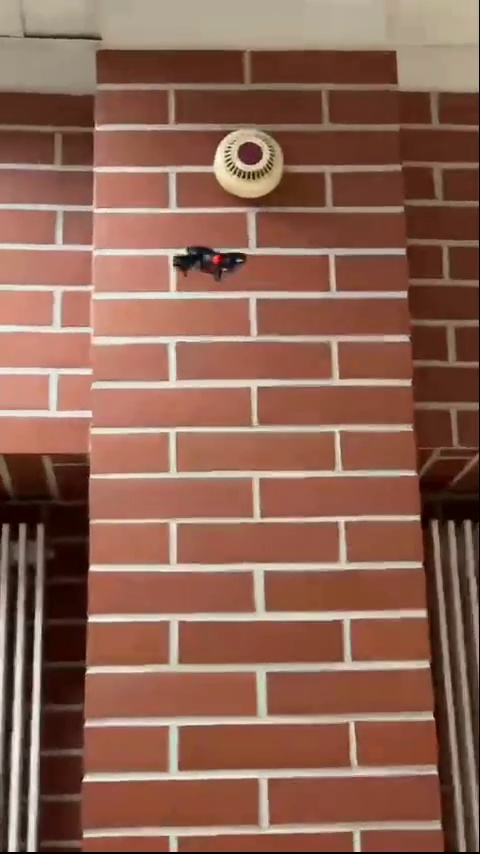drone: (173, 247, 252, 282)
